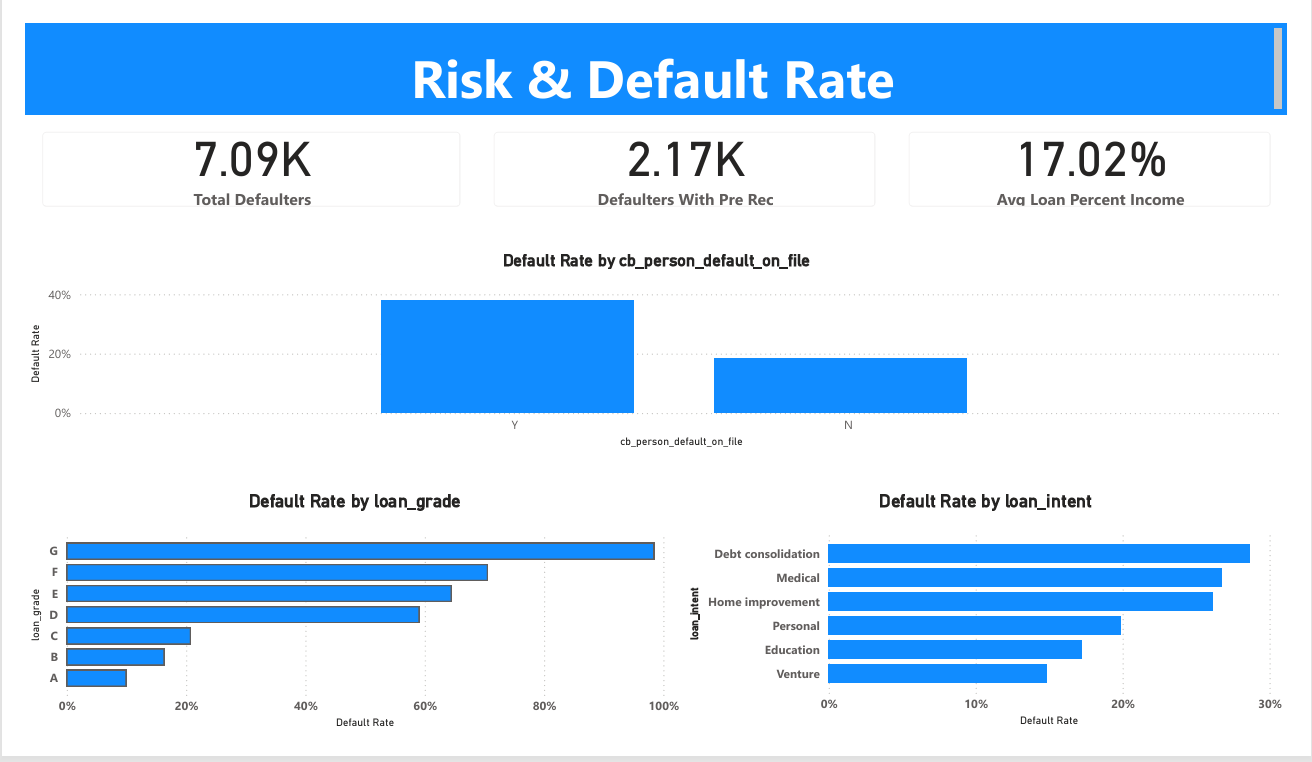

The page's visual inventory and layout, read from the dashboard file:
{"tool":"powerbi","page":{"name":"Risk & Default Drivers","canvas":[1280,720],"ordinal":1},"visuals":[{"type":"cardVisual","fields":{"Data":["fact.Total Defaulters"]},"box":[0,92.6,457.6,110.8],"z":0},{"type":"cardVisual","fields":{"Data":["fact.Defaulters With Pre Rec"]},"box":[457.6,92.6,421.3,110.8],"z":1000},{"type":"cardVisual","fields":{"Data":["fact.Avg Loan Percent Income"]},"box":[878.9,92.6,401.3,110.8],"z":2000},{"type":"clusteredColumnChart","fields":{"Category":["dim person.cb_person_default_on_file"],"Y":["fact.Default Rate"]},"box":[0,230,1280,205],"z":3000},{"type":"barChart","fields":{"Category":["dim loan.loan_grade"],"Y":["fact.Default Rate"]},"box":[0,474,668.3,247],"z":4000},{"type":"barChart","fields":{"Y":["fact.Default Rate"],"Category":["dim loan.loan_intent"]},"box":[668.3,474,612,245.2],"z":5000},{"type":"textbox","box":[0,0,1280.3,92.6],"z":6000}]}

Visuals, with their boxes on the page's 1280x720 design canvas (x1, y1, x2, y2). These are canvas units, not pixel positions in the 1312x762 screenshot, which may show the page scaled, cropped or inside an application window:
cardVisual - fact.Total Defaulters: left=0, top=93, right=458, bottom=203
cardVisual - fact.Defaulters With Pre Rec: left=458, top=93, right=879, bottom=203
cardVisual - fact.Avg Loan Percent Income: left=879, top=93, right=1280, bottom=203
clusteredColumnChart - dim person.cb_person_default_on_file x fact.Default Rate: left=0, top=230, right=1280, bottom=435
barChart - dim loan.loan_grade x fact.Default Rate: left=0, top=474, right=668, bottom=721
barChart - fact.Default Rate x dim loan.loan_intent: left=668, top=474, right=1280, bottom=719
textbox: left=0, top=0, right=1280, bottom=93
